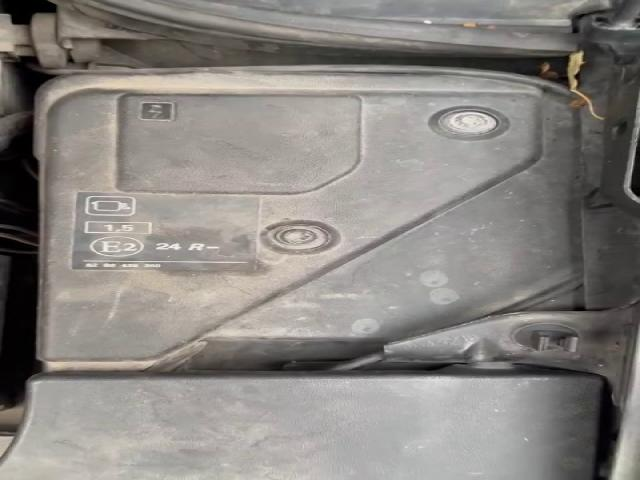fuse_box: (43, 90, 557, 363)
